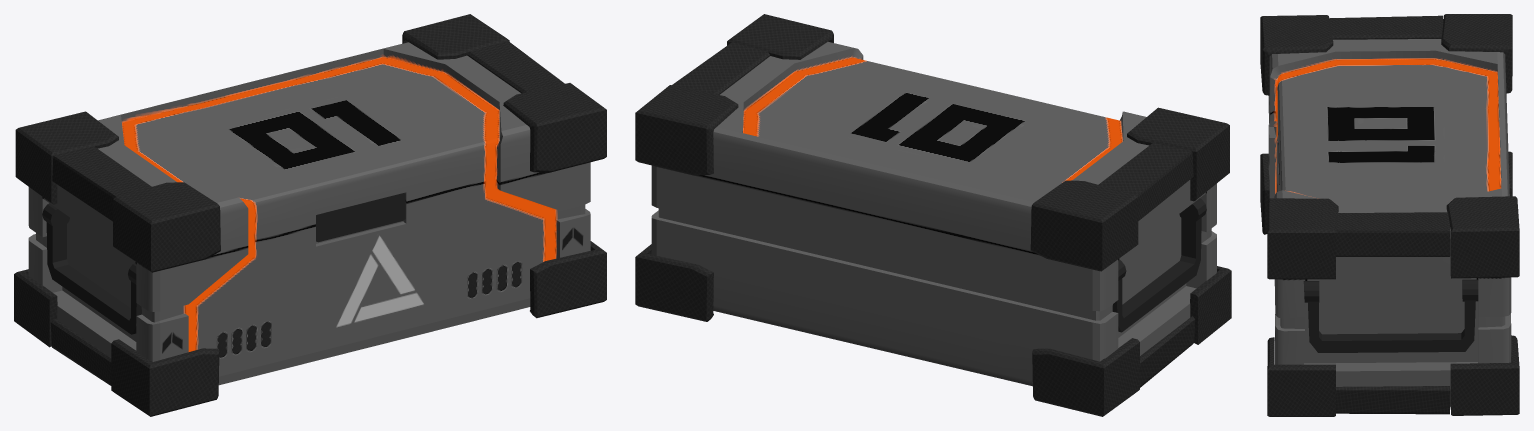
The model's file is Caja_a.fbx.
3 views of the same model, side by side, from view 1: azimuth 30°, elevation 25°; view 2: azimuth 150°, elevation 25°; view 3: azimuth 270°, elevation 25° (orthographic). The views are drawn at different scales.
Parts seen in each view (by area): view 1: Caja_A (2); view 2: Caja_A (2); view 3: Caja_A (2).
Part boxes in pixels (x1,y1,x2,y2): Caja_A (2): (14, 14, 606, 416); Caja_A (2): (635, 14, 1231, 416); Caja_A (2): (1260, 14, 1519, 416).
Size of the model in its own units: 107 by 43.01 by 53.76.
Materials: 2 (2 with a texture image).
